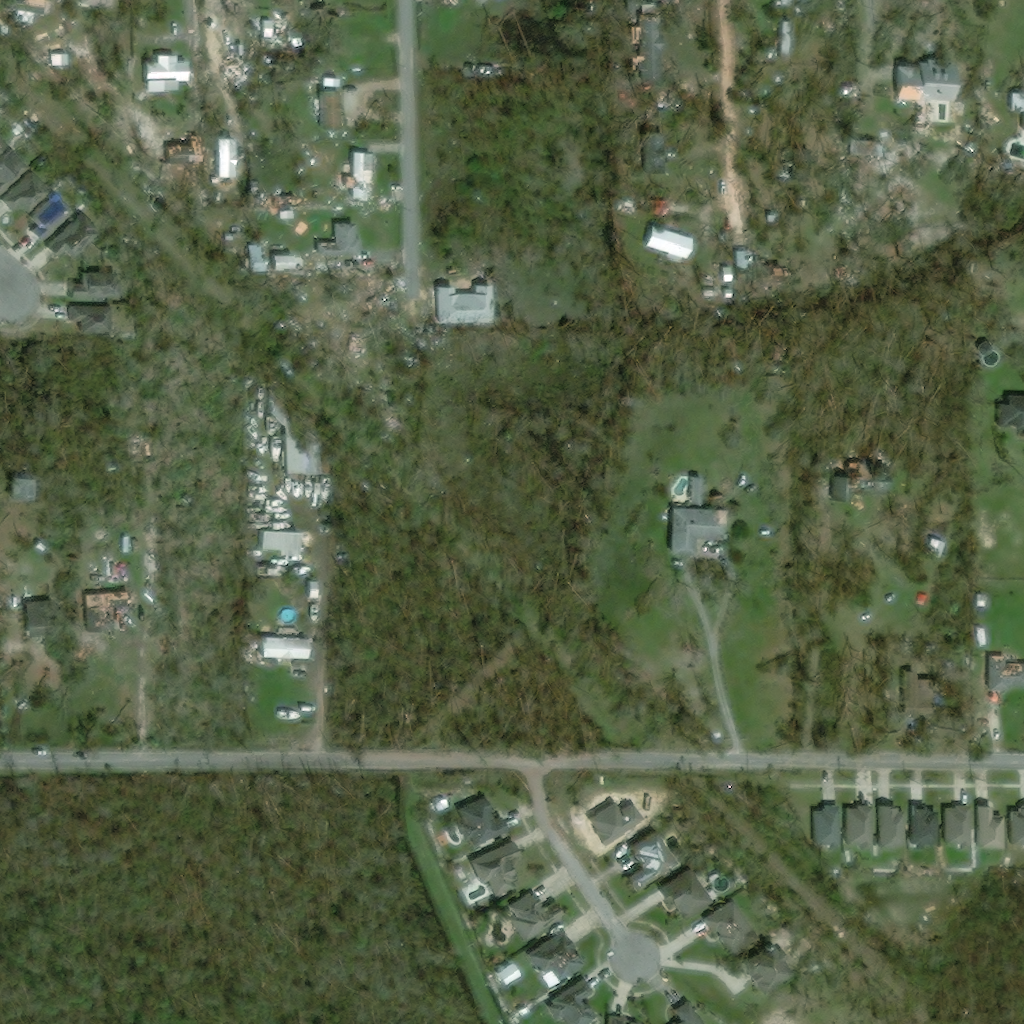destroyed: (351, 337, 366, 345)
major_damage: (241, 246, 295, 270), (260, 19, 285, 38), (265, 194, 298, 207)
minor_damage: (623, 829, 679, 893), (620, 0, 665, 79), (525, 929, 586, 987), (702, 898, 755, 952), (892, 58, 955, 102), (671, 508, 728, 555), (28, 192, 72, 243), (832, 463, 886, 503), (79, 591, 128, 632), (335, 152, 377, 198), (987, 655, 1023, 692), (223, 59, 247, 69)
no_damage: (499, 889, 566, 946), (655, 865, 715, 925), (467, 839, 522, 900), (739, 942, 797, 995), (454, 792, 506, 846), (545, 976, 596, 1023), (46, 213, 98, 258), (1, 172, 48, 213), (281, 417, 312, 476), (640, 224, 691, 259), (141, 55, 188, 91), (840, 803, 870, 854), (259, 630, 309, 660), (20, 600, 60, 637), (69, 272, 121, 300), (0, 147, 28, 197), (877, 805, 904, 851), (314, 86, 342, 130), (69, 305, 113, 333), (976, 806, 1004, 850), (759, 23, 794, 58), (811, 804, 837, 851), (910, 805, 937, 850), (944, 804, 970, 849), (256, 531, 303, 555), (322, 222, 355, 254), (732, 242, 764, 272), (996, 398, 1023, 433), (994, 91, 1023, 120), (668, 1000, 703, 1023), (216, 138, 235, 177), (646, 136, 664, 175), (1008, 809, 1023, 854), (494, 962, 519, 987), (10, 0, 46, 14), (925, 536, 945, 560), (1006, 134, 1023, 162), (926, 135, 950, 154), (14, 478, 34, 497), (659, 201, 682, 215), (321, 72, 340, 87), (43, 0, 57, 17), (976, 629, 989, 647), (986, 60, 997, 80), (715, 267, 729, 282), (307, 580, 318, 598), (773, 0, 791, 10), (619, 199, 633, 211), (642, 203, 656, 215), (974, 594, 988, 606), (278, 211, 296, 220), (670, 156, 684, 165), (0, 138, 5, 152), (385, 199, 393, 207)
